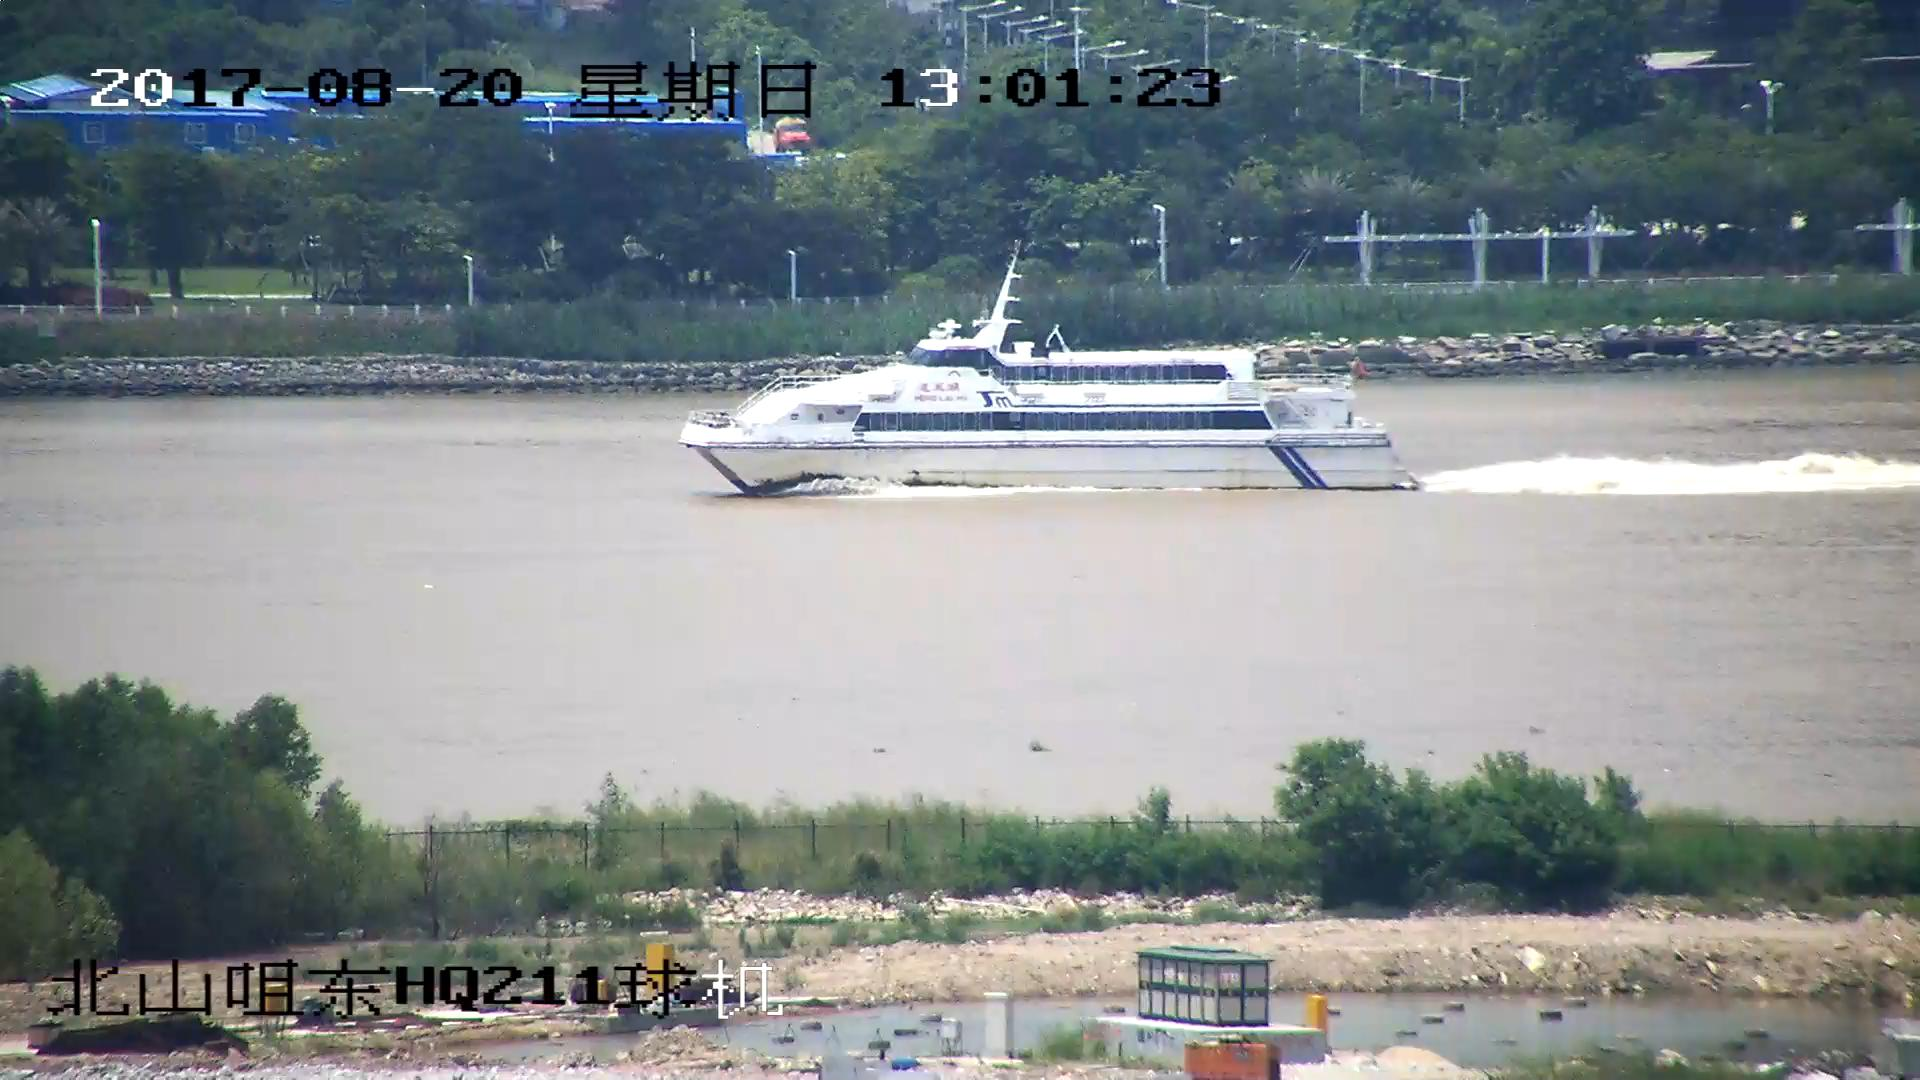passenger ship: (683, 249, 1420, 498)
